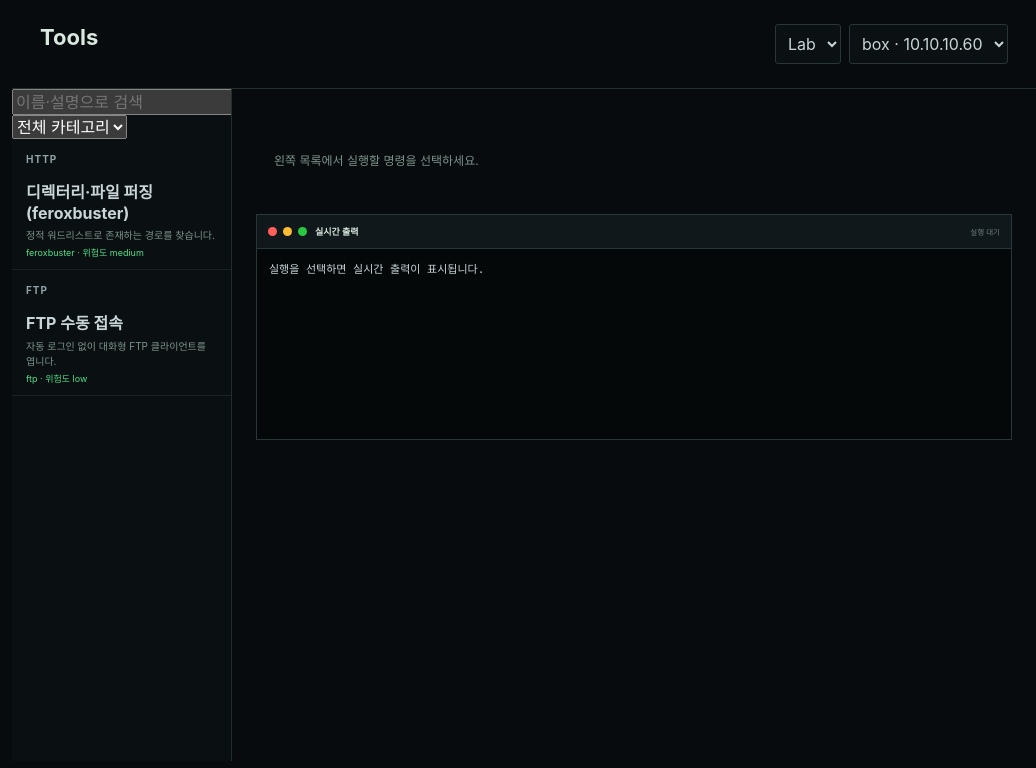
Test: filters the catalog by search text
Expected: the heading "HTTP" is shown, [26,153,57,165]
Type "존재하지않음xyz" into the field named "명령 검색". click: x=140, y=102
box: [12,89,268,115]
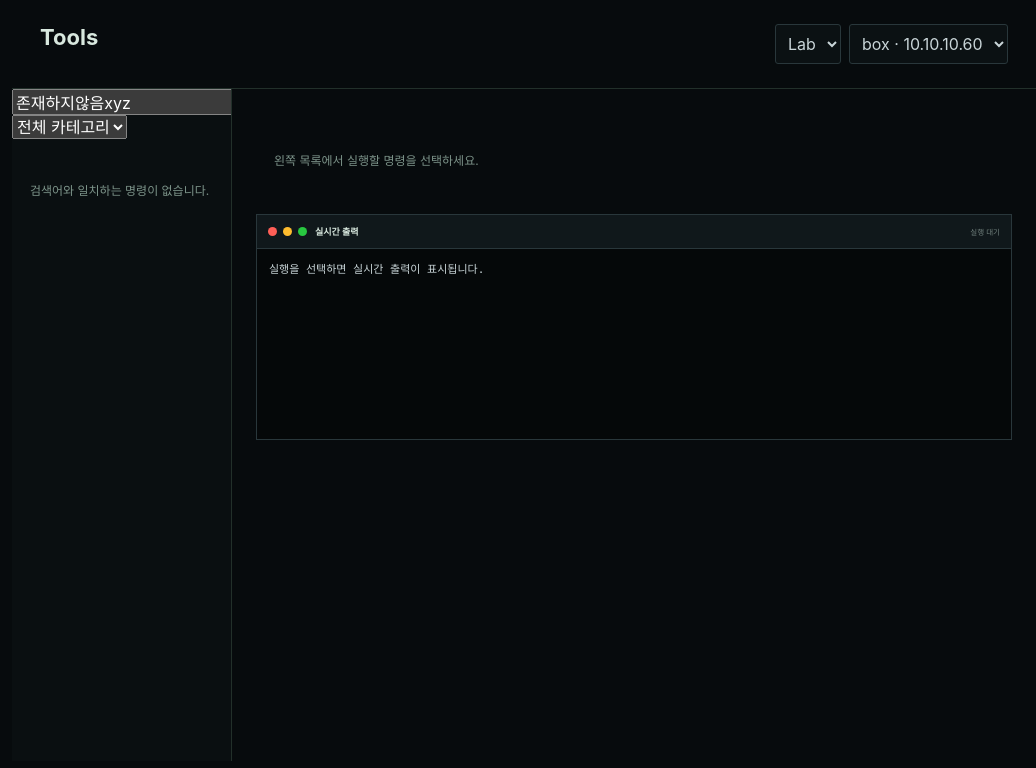
Now the button "디렉터리·파일 퍼징 (feroxbuster)" is gone
Now the text "검색어와 일치하는 명령이 없습니다." is shown, box [30,183,209,198]
